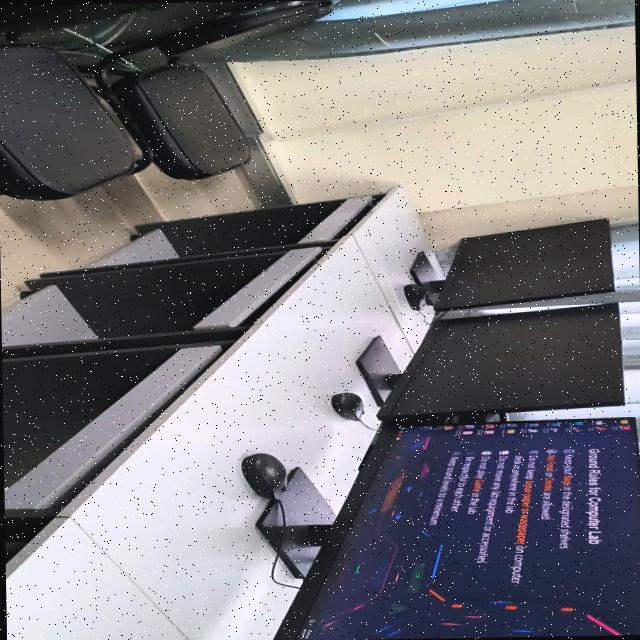Chair: (94, 0, 332, 180), (0, 3, 155, 200), (382, 409, 506, 427)
Monitor: (256, 417, 640, 640), (355, 303, 623, 414), (410, 219, 612, 311)
Mouse: (240, 453, 286, 498), (330, 392, 363, 421), (403, 283, 426, 311)
